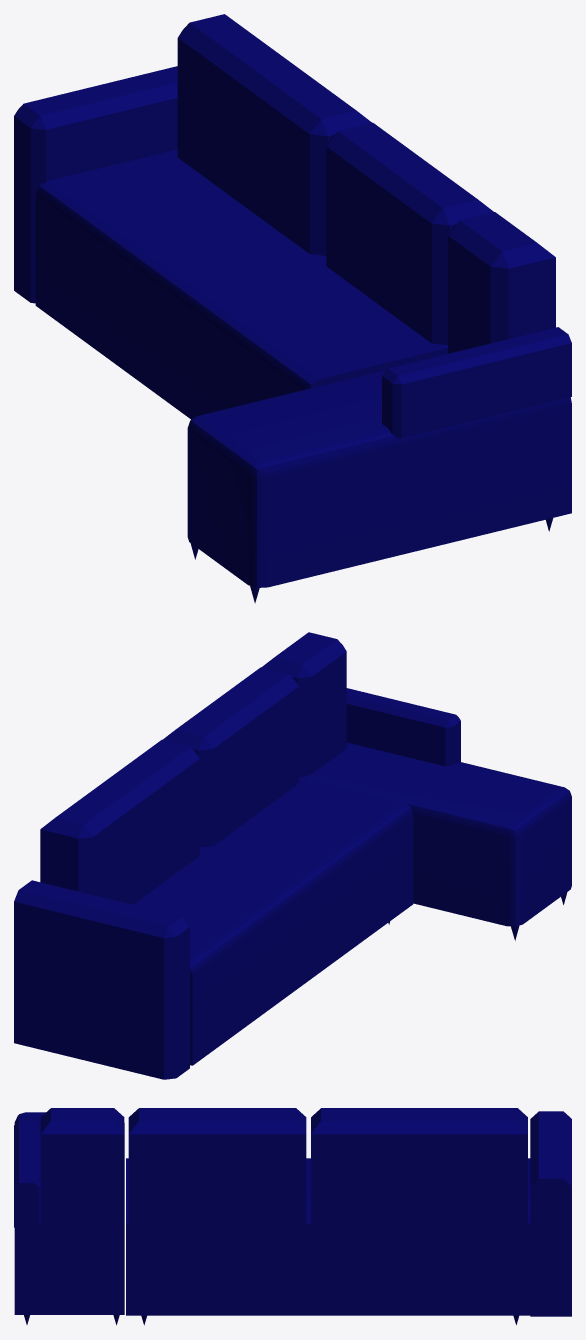
Rendered from Sofa.fbx.
The picture shows the model from 3 angles, top to bottom: view 1: azimuth 30°, elevation 25°; view 2: azimuth 150°, elevation 25°; view 3: azimuth 270°, elevation 25°; orthographic projection. The views are drawn at different scales.
Parts seen in each view (by area): view 1: pCube13, pCube14, pCube11, pCube10, pCube12, pCube9, pCube6; view 2: pCube13, pCube12, pCube14, pCube11, pCube10, pCube6, pCube9; view 3: pCube13, pCube11, pCube10, pCube14, pCube6, pCube12, pCube9.
Part boxes in pixels (box(x1,y1,x2,y2)): pCube13: box(35, 149, 447, 419); pCube14: box(187, 370, 571, 587); pCube11: box(177, 14, 371, 255); pCube10: box(326, 122, 493, 345); pCube12: box(14, 66, 177, 303); pCube9: box(382, 327, 571, 438); pCube6: box(448, 212, 555, 353); pCube13: box(133, 776, 413, 1065); pCube12: box(14, 880, 189, 1079); pCube14: box(301, 742, 571, 926); pCube11: box(40, 739, 199, 904); pCube10: box(163, 667, 298, 847); pCube6: box(262, 632, 346, 776); pCube9: box(346, 688, 460, 766); pCube13: box(126, 1158, 530, 1315); pCube11: box(311, 1108, 527, 1225); pCube10: box(128, 1108, 306, 1225); pCube14: box(14, 1112, 124, 1314); pCube6: box(40, 1108, 124, 1225); pCube12: box(530, 1111, 571, 1316); pCube9: box(14, 1121, 39, 1227).
Bounding box in the file's own units: 5.47 × 4.5 × 11.03.
